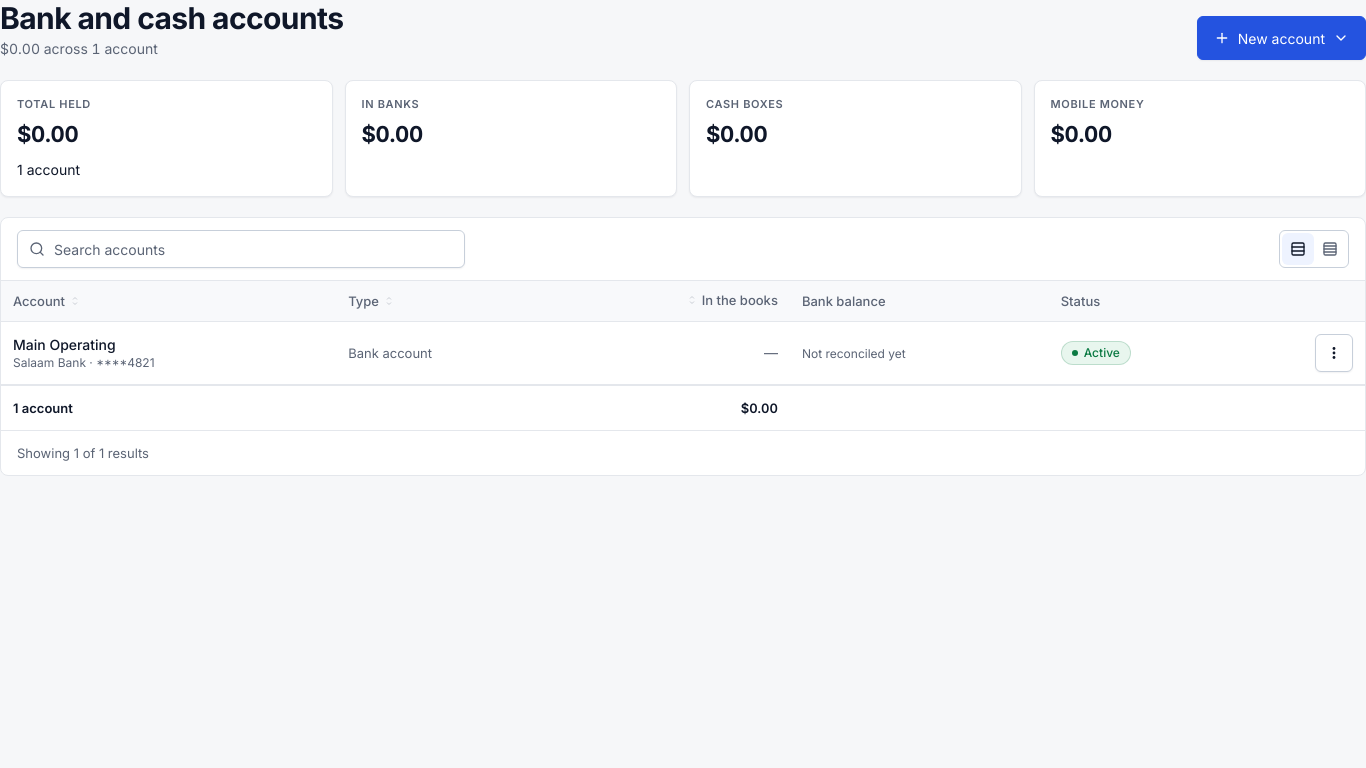
Test case: configure form › offers only unmapped cash and bank GL accounts
Step 1. Click the button "New account" → [1281, 38], box [1197,16,1365,60]
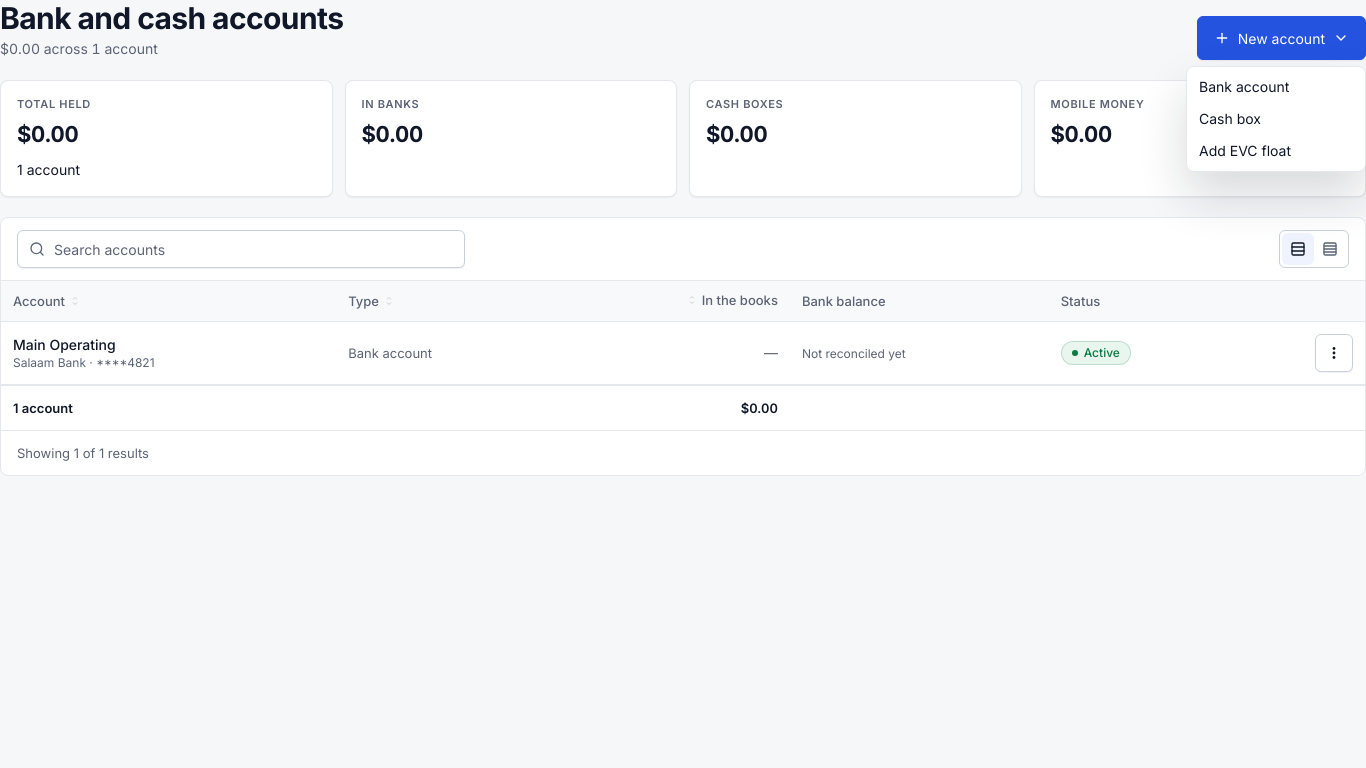
Step 2. Click the menu item "Bank account" → [1244, 86], box [1199,78,1289,95]
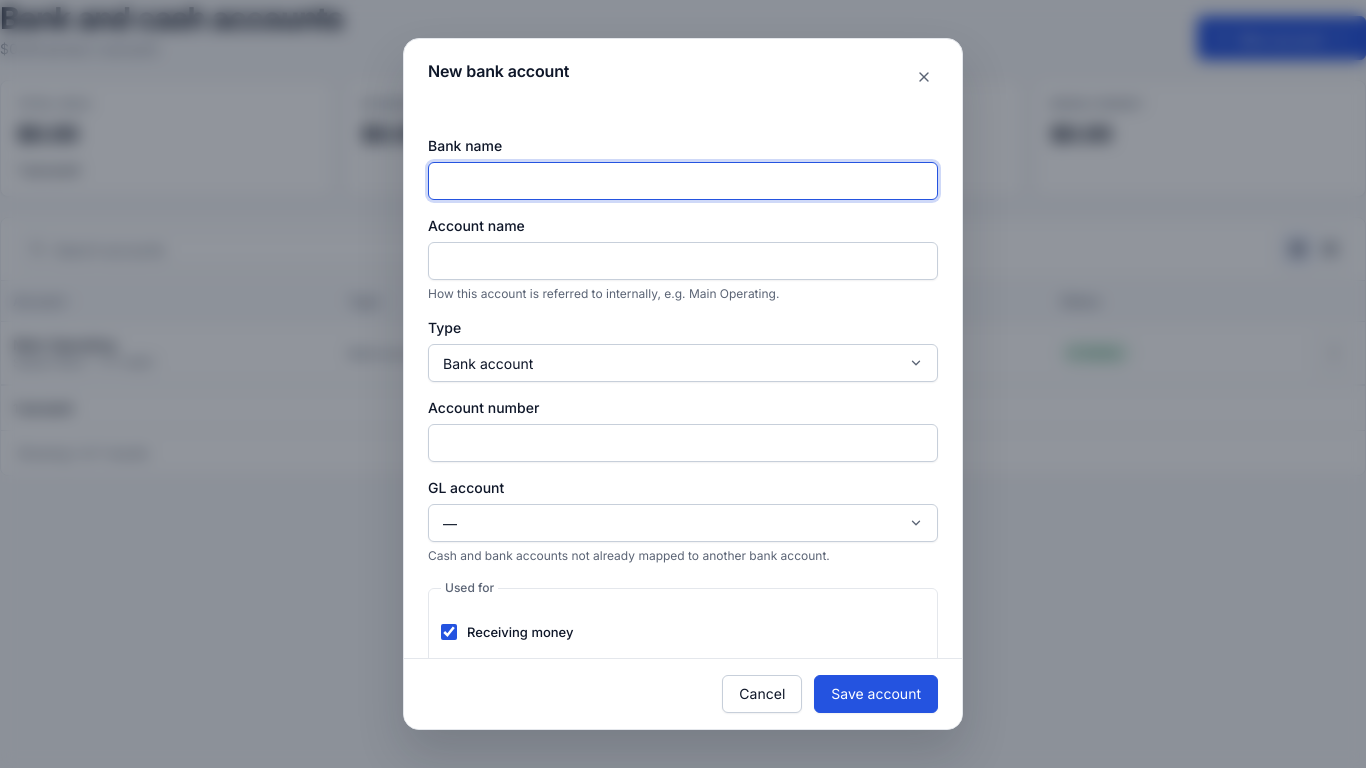
Step 3. Click the dropdown named "GL account" → [450, 523], box [428,504,938,542]
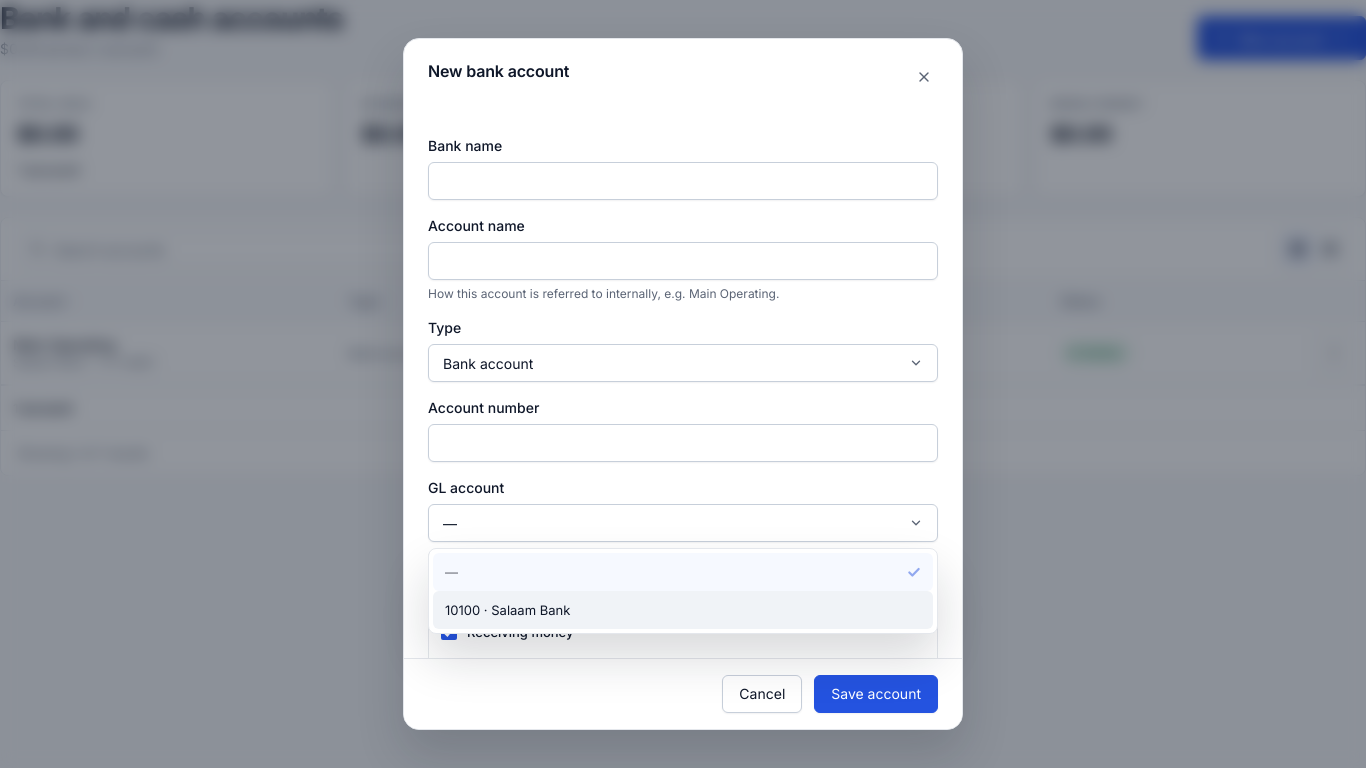
expect the list is shown: met, box [428,548,938,634]
expect the option "10100 · Salaam Bank" is shown: met, box [433,591,933,629]
